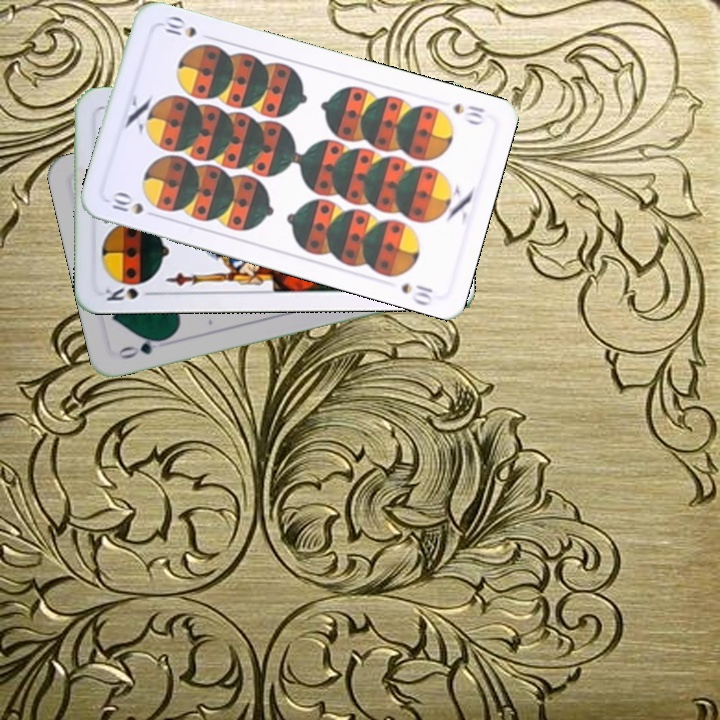GO: (113, 333, 171, 362)
S10: (107, 188, 162, 220), (449, 99, 487, 128)
SK: (101, 280, 158, 303)
